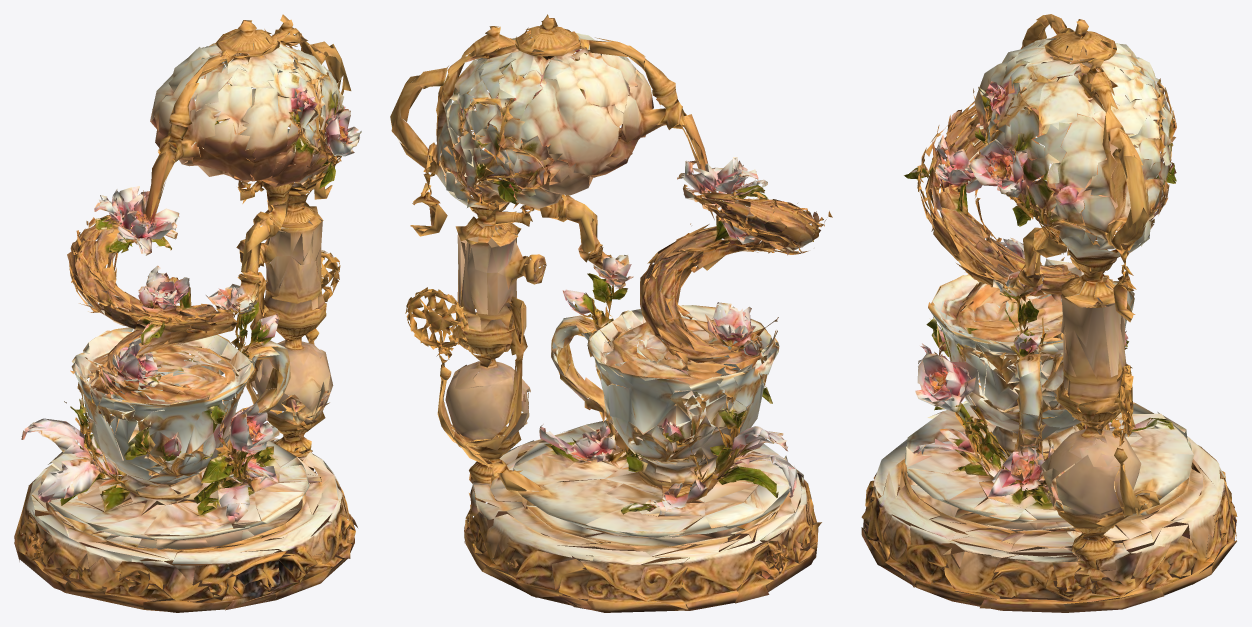
Rendered from Enchanted_Blossom_Tea_town.glb.
3 views of the same model, side by side, from view 1: azimuth 30°, elevation 25°; view 2: azimuth 150°, elevation 25°; view 3: azimuth 270°, elevation 25° (orthographic). The views are drawn at different scales.
Parts seen in each view (by area): view 1: Enchanted_Blossom_Tea; view 2: Enchanted_Blossom_Tea; view 3: Enchanted_Blossom_Tea.
Boxes of the visible parts, bbox=[...] form: Enchanted_Blossom_Tea: bbox=[14, 14, 361, 612]; Enchanted_Blossom_Tea: bbox=[390, 14, 832, 612]; Enchanted_Blossom_Tea: bbox=[861, 14, 1237, 612].
Bounding box in the file's own units: 1.43 × 1.91 × 1.17.
1 material, 1 textured.
